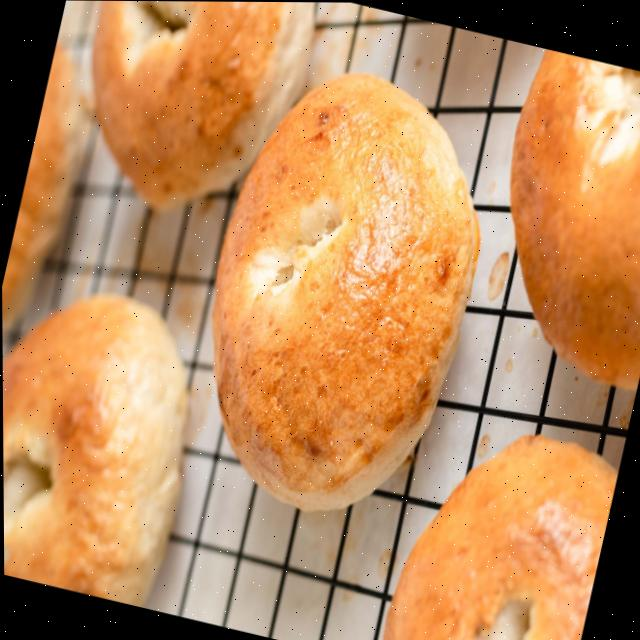Bagel: (212, 72, 479, 509), (2, 294, 187, 605), (382, 433, 617, 640), (93, 1, 313, 206), (510, 48, 640, 387)
